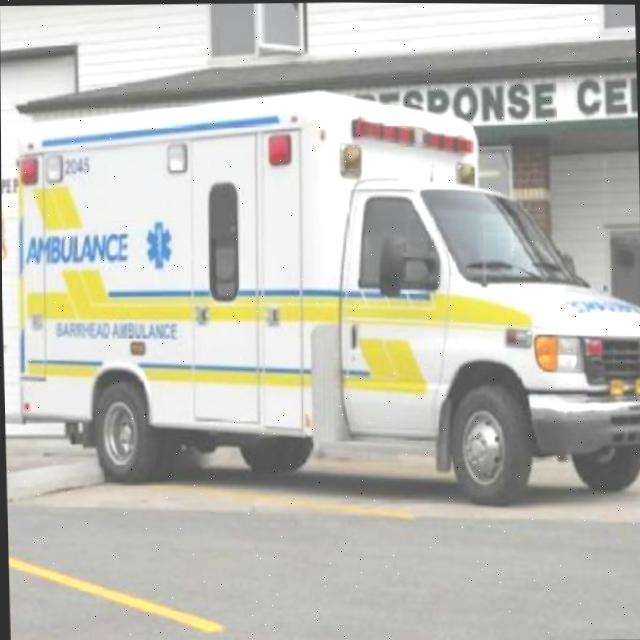emergency: (0, 82, 640, 514)
